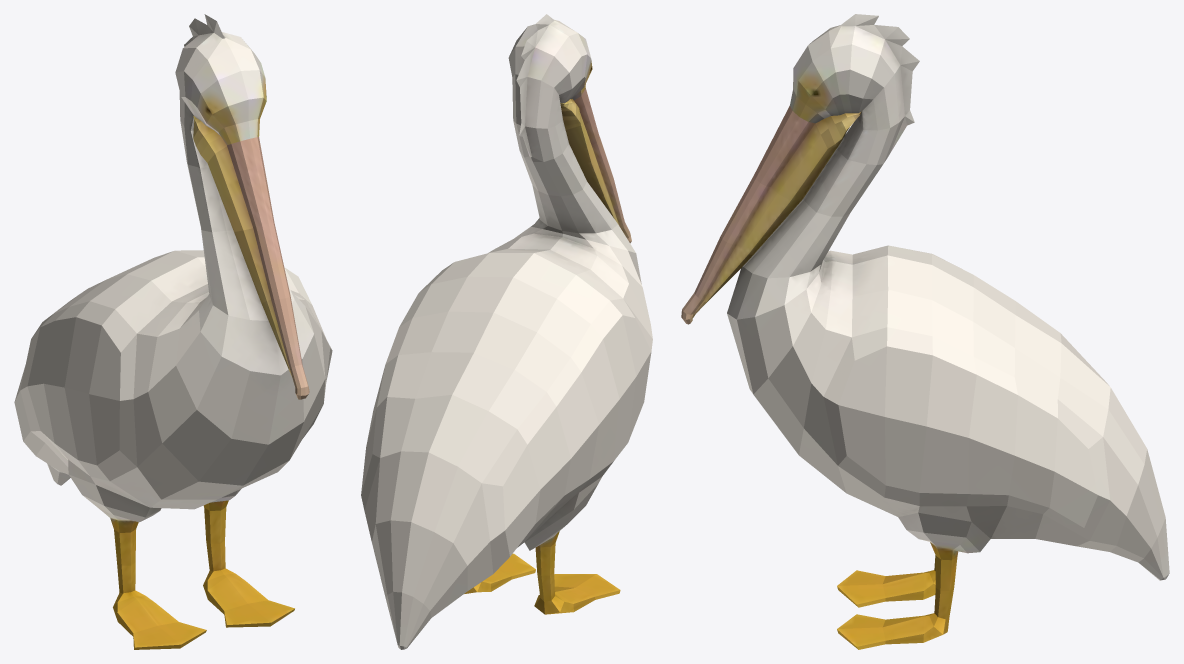
Rendered from animals-american-white-pelican-001.glb.
3 views of the same model, side by side, from view 1: azimuth 30°, elevation 25°; view 2: azimuth 150°, elevation 25°; view 3: azimuth 270°, elevation 25° (orthographic). The views are drawn at different scales.
Parts seen in each view (by area): view 1: AmericanWhitePelican_mesh; view 2: AmericanWhitePelican_mesh; view 3: AmericanWhitePelican_mesh.
Boxes of the visible parts, x1=… form: AmericanWhitePelican_mesh: x1=14, y1=14, x2=332, y2=649; AmericanWhitePelican_mesh: x1=361, y1=14, x2=652, y2=649; AmericanWhitePelican_mesh: x1=681, y1=14, x2=1169, y2=649.
Bounding box in the file's own units: 3.83 × 9.66 × 7.15.
1 material, 1 textured.
